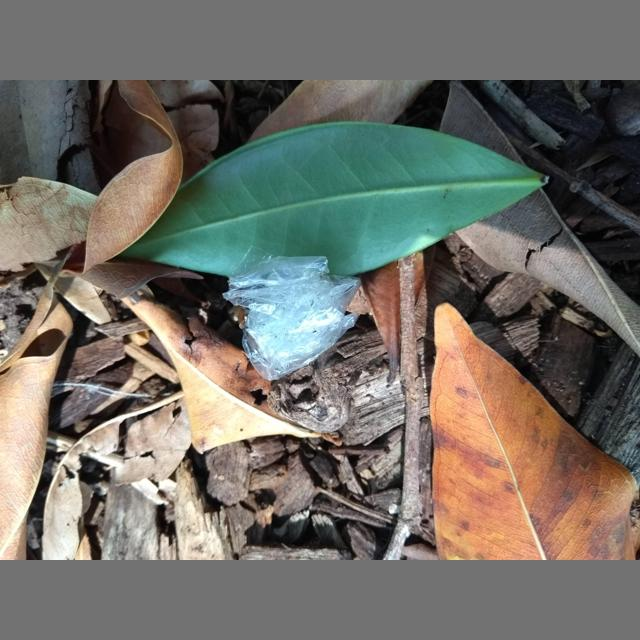litter: (222, 246, 361, 381)
